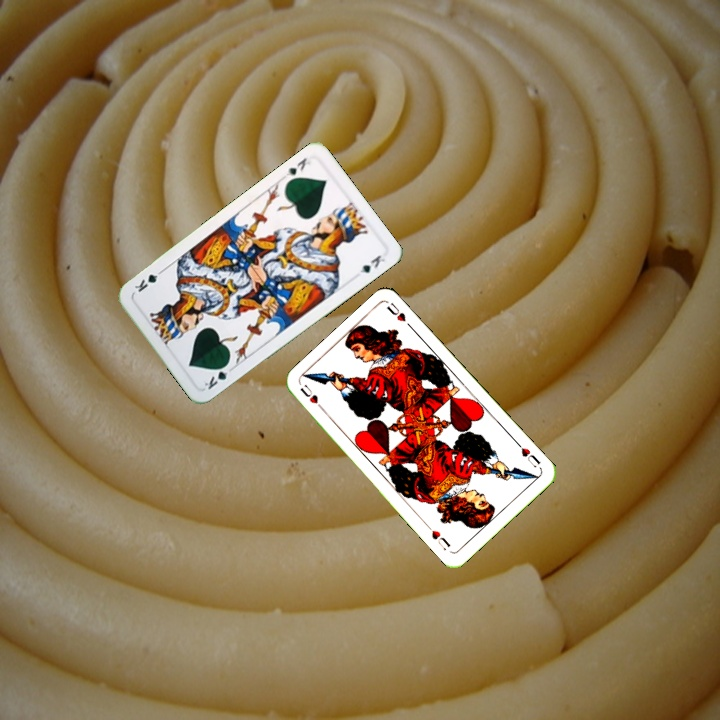GK: (199, 359, 232, 392), (282, 154, 313, 179)
HU: (296, 380, 328, 414), (512, 438, 543, 470)
